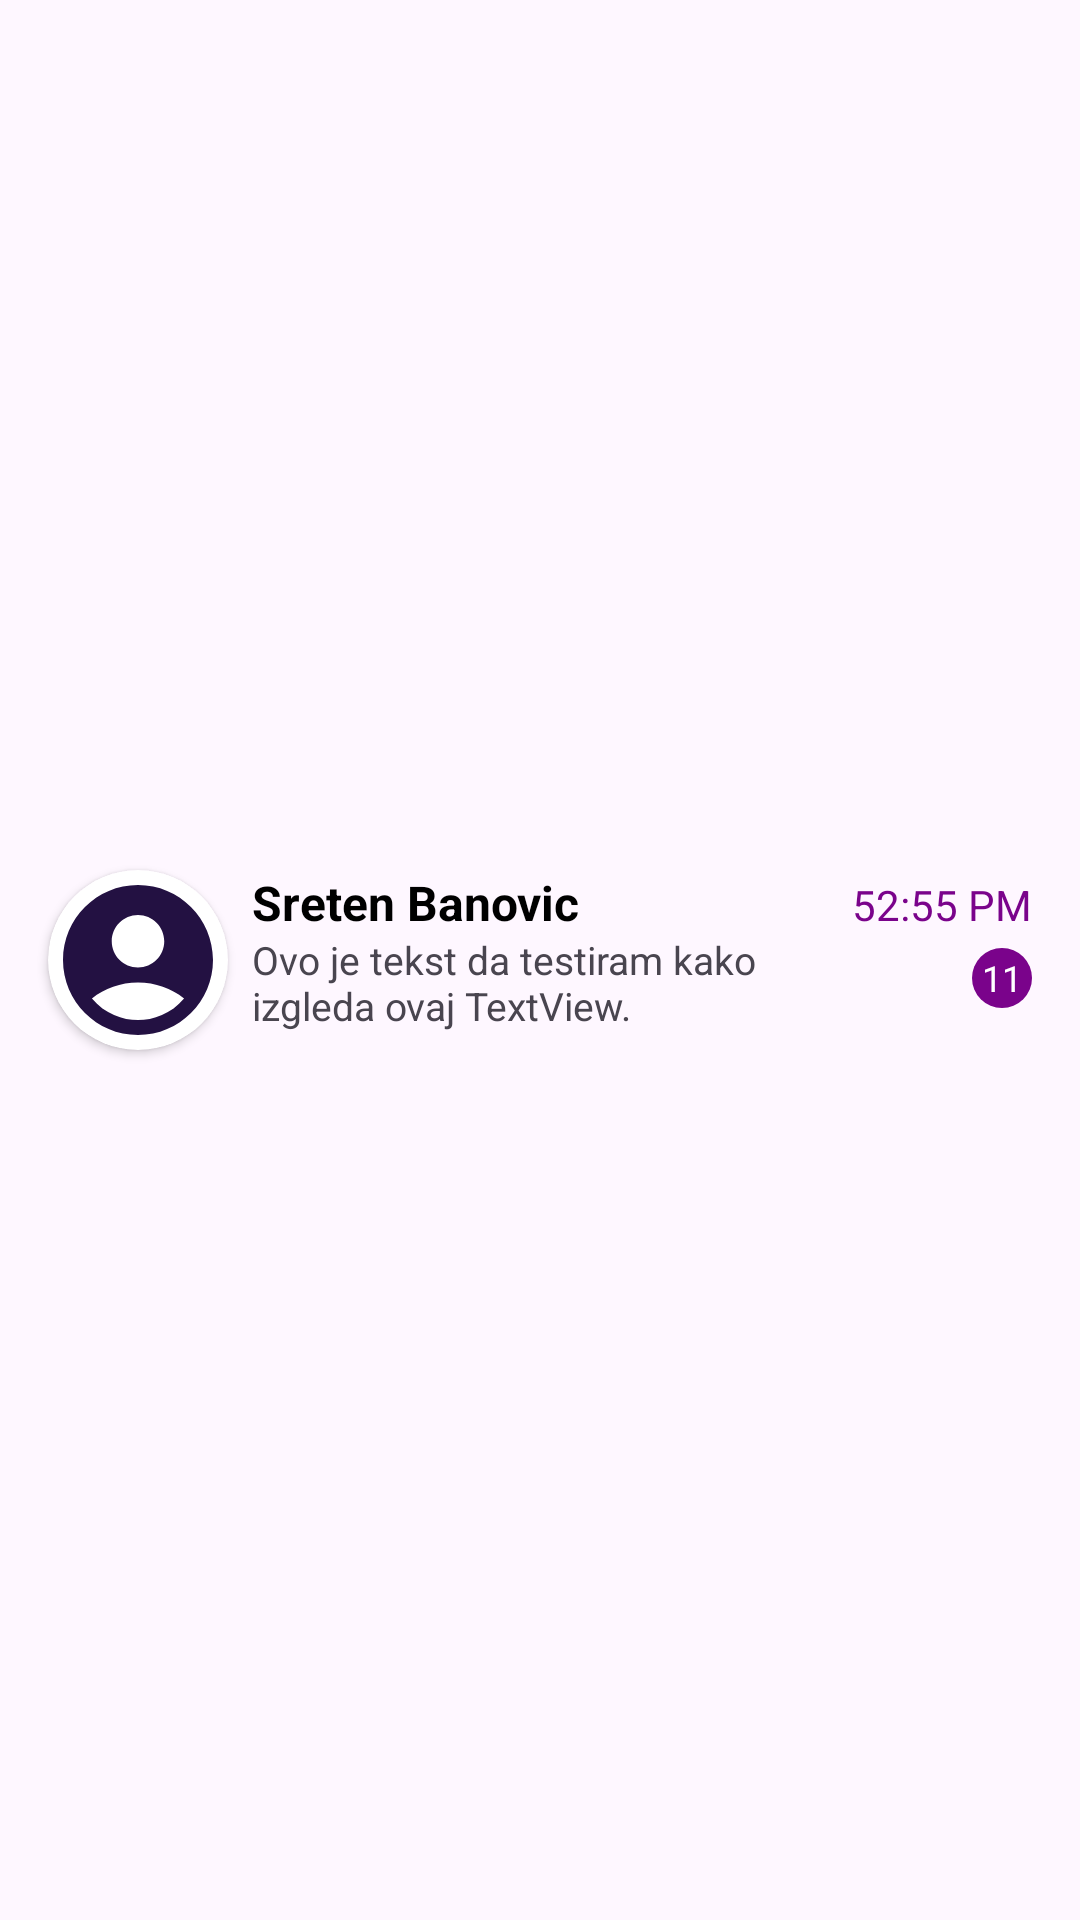

Named icons in this screenshot (1080x1920) and their centers, (x=x, y=y):
user profile: (x=138, y=960)
